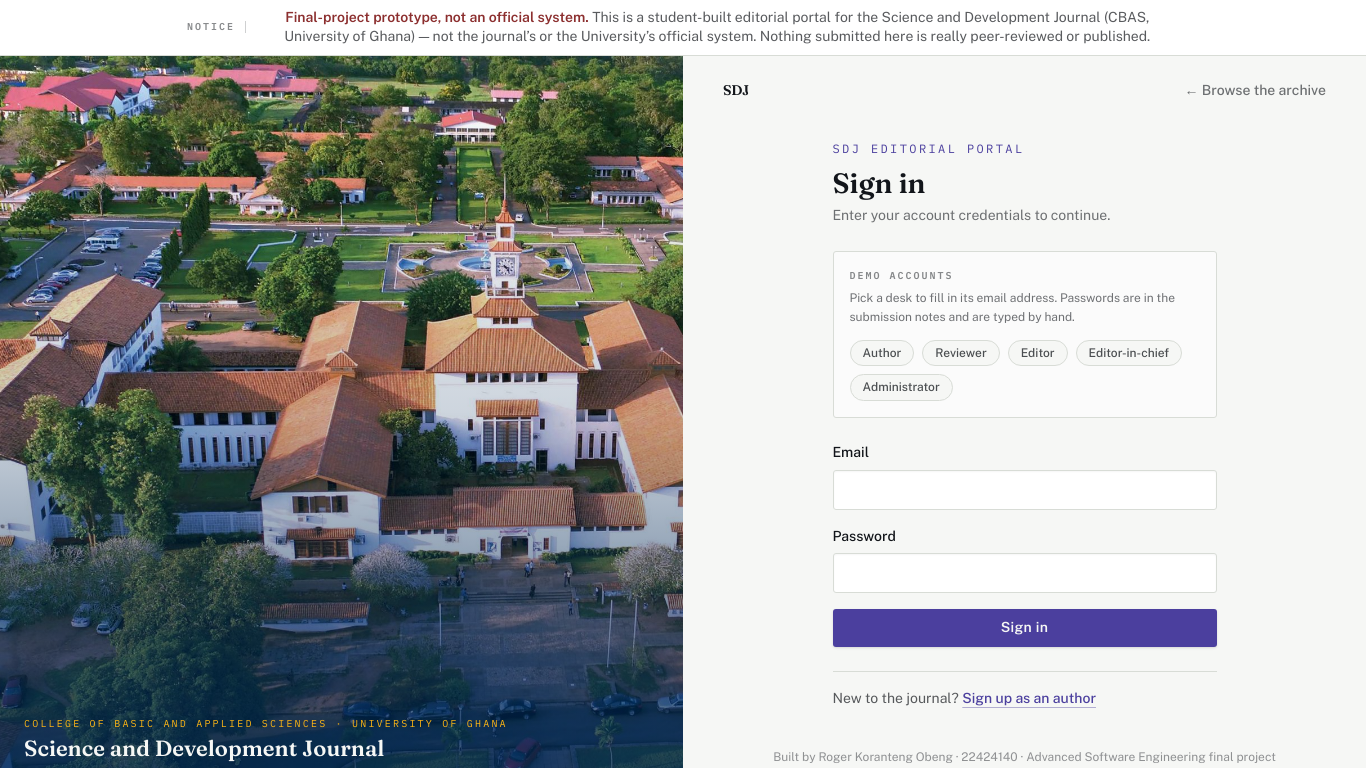
Test: LoginPage › fills the email from a demo-account chip but never the password
Step 1. Click the button "Editor" → (1038, 353), box [1008, 340, 1068, 366]
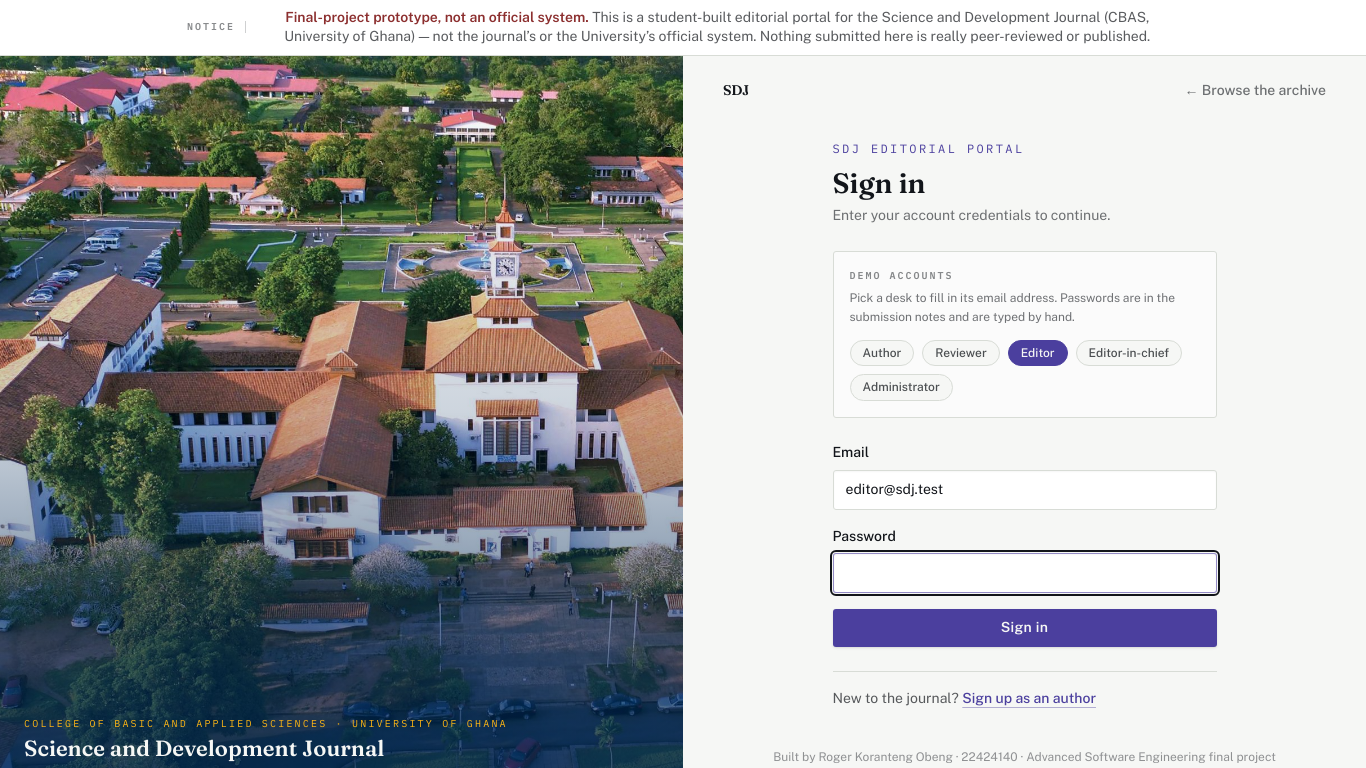
Expected: the password field labelled "Password" is empty, [832, 553, 1216, 593]
Expected: the field labelled "Email" holds "editor@sdj.test", [832, 470, 1216, 510]
